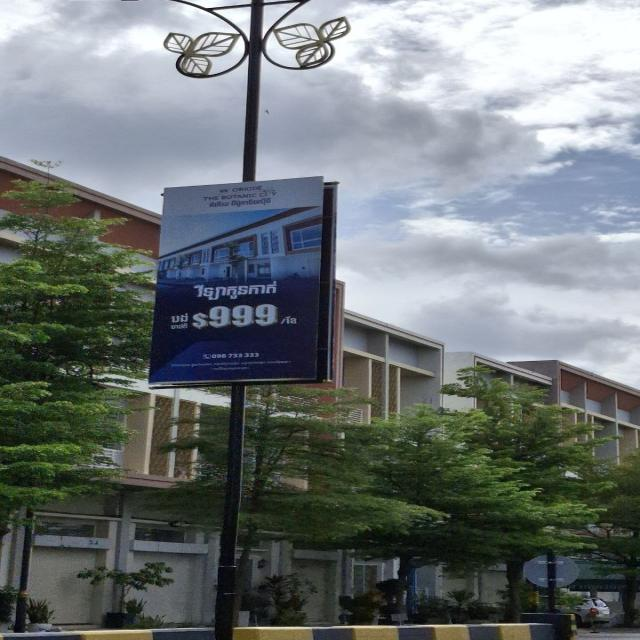188: (166, 300, 302, 338)
Yolov11_80vkh: (174, 272, 289, 304)
